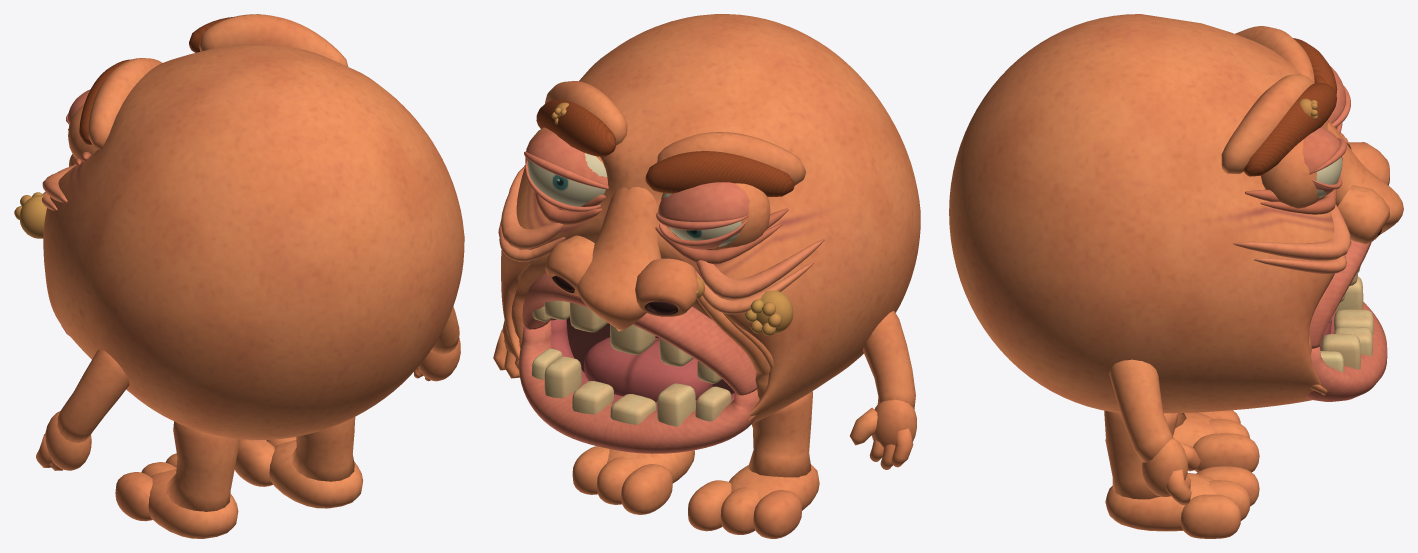
The picture shows the model from 3 angles, left to right: view 1: azimuth 30°, elevation 25°; view 2: azimuth 150°, elevation 25°; view 3: azimuth 270°, elevation 25°; orthographic projection.
Bounding box in the file's own units: 0.9576 × 1 × 0.8994.
Materials: 1 (1 with a texture image).
